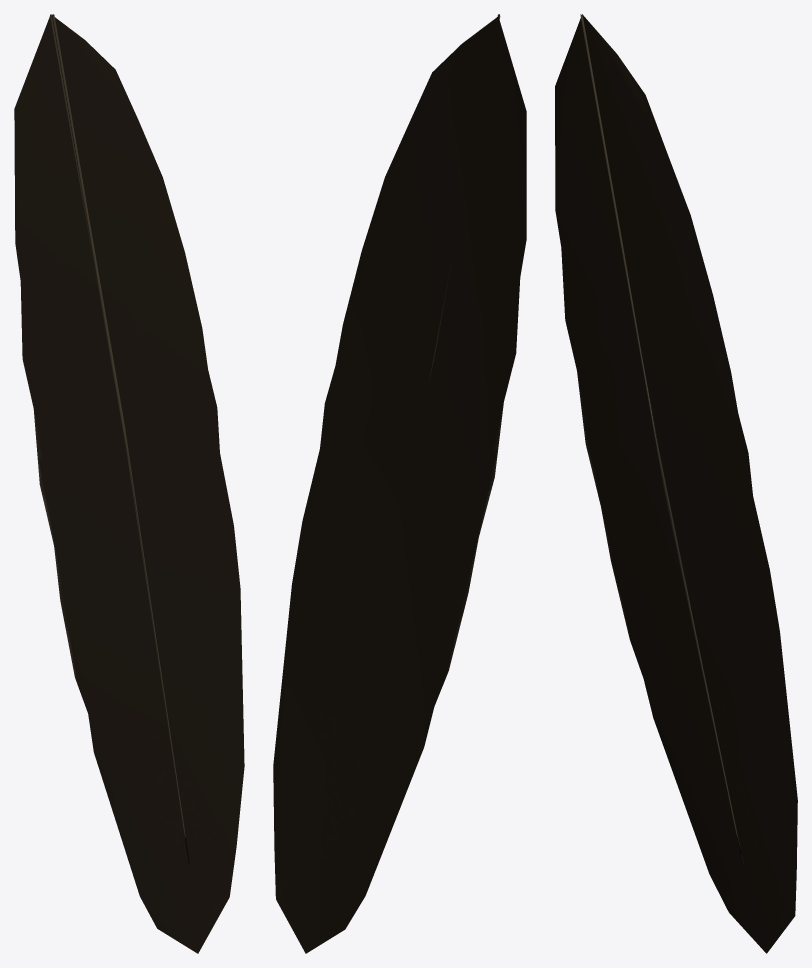
File: bird_rectrix_08.obj
The picture shows the model from 3 angles, left to right: view 1: azimuth 30°, elevation 25°; view 2: azimuth 150°, elevation 25°; view 3: azimuth 330°, elevation 25°; orthographic projection. The views are drawn at different scales.
Parts seen in each view (by area): view 1: PIECE_BIRD_RECTRIX_RIG_08; view 2: PIECE_BIRD_RECTRIX_RIG_08; view 3: PIECE_BIRD_RECTRIX_RIG_08.
Part boxes in pixels (x1,y1,x2,y2): PIECE_BIRD_RECTRIX_RIG_08: (14, 14, 244, 953); PIECE_BIRD_RECTRIX_RIG_08: (273, 14, 526, 953); PIECE_BIRD_RECTRIX_RIG_08: (555, 14, 797, 953).
Size of the model in its own units: 0.0465 by 0.1799 by 0.00957.
Materials: 1 (1 with a texture image).
